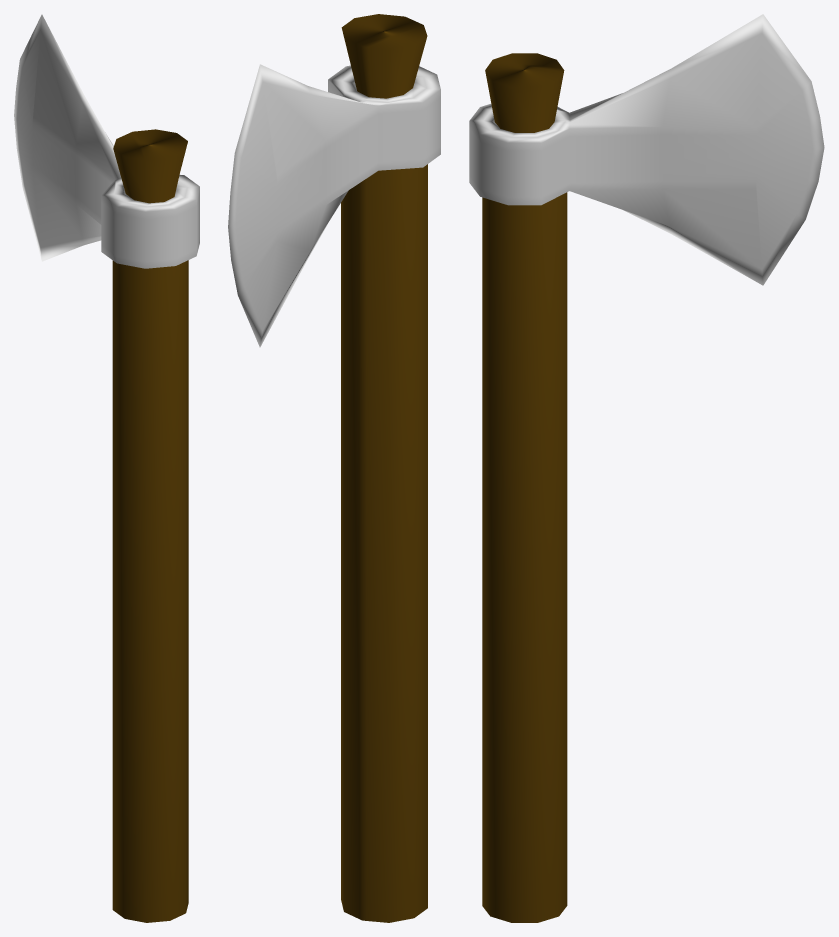
Rendered from Machado.fbx.
3 views of the same model, side by side, from view 1: azimuth 30°, elevation 25°; view 2: azimuth 150°, elevation 25°; view 3: azimuth 270°, elevation 25° (orthographic). The views are drawn at different scales.
Visible parts, largest first — view 1: Cilindro.001; view 2: Cilindro.001; view 3: Cilindro.001.
Boxes of the visible parts, box(x1,y1,x2,y2) form: Cilindro.001: box(14, 14, 199, 922); Cilindro.001: box(228, 14, 440, 922); Cilindro.001: box(469, 14, 824, 922).
Bounding box in the file's own units: 16.82 × 158 × 56.85.
